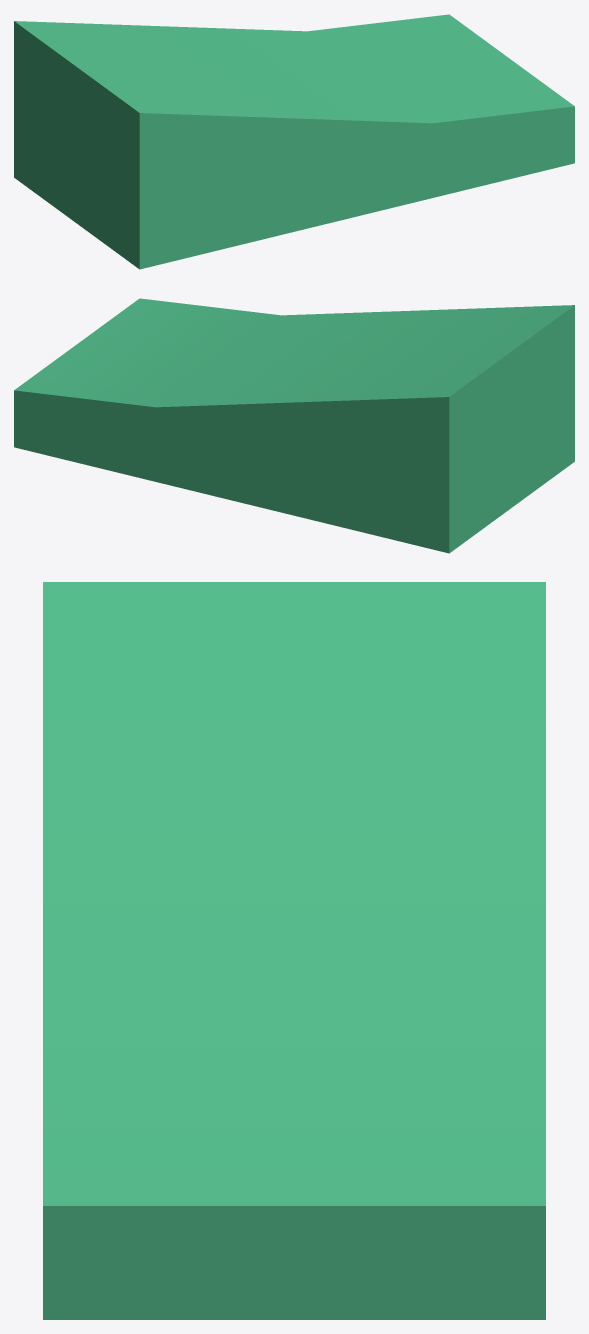
The model's file is gm_ramp_02.dae.
The picture shows the model from 3 angles, top to bottom: view 1: azimuth 30°, elevation 25°; view 2: azimuth 150°, elevation 25°; view 3: azimuth 270°, elevation 25°; orthographic projection. The views are drawn at different scales.
Visible parts, largest first — view 1: Colmesh-1; view 2: Colmesh-1; view 3: Colmesh-1.
Boxes of the visible parts, <box> form: Colmesh-1: <box>14,14,574,269</box>; Colmesh-1: <box>14,298,574,553</box>; Colmesh-1: <box>43,582,545,1319</box>.
Size of the model in its own units: 8 by 4 by 2.75.
